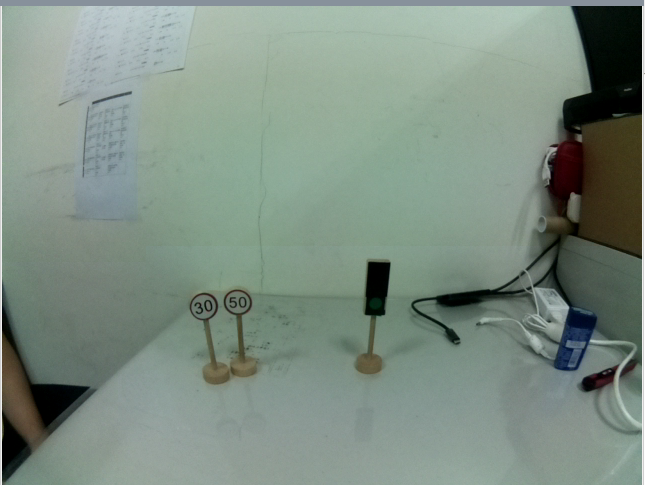Green: (360, 253, 394, 322)
Speed30: (187, 287, 220, 325)
Speed50: (220, 286, 253, 316)
